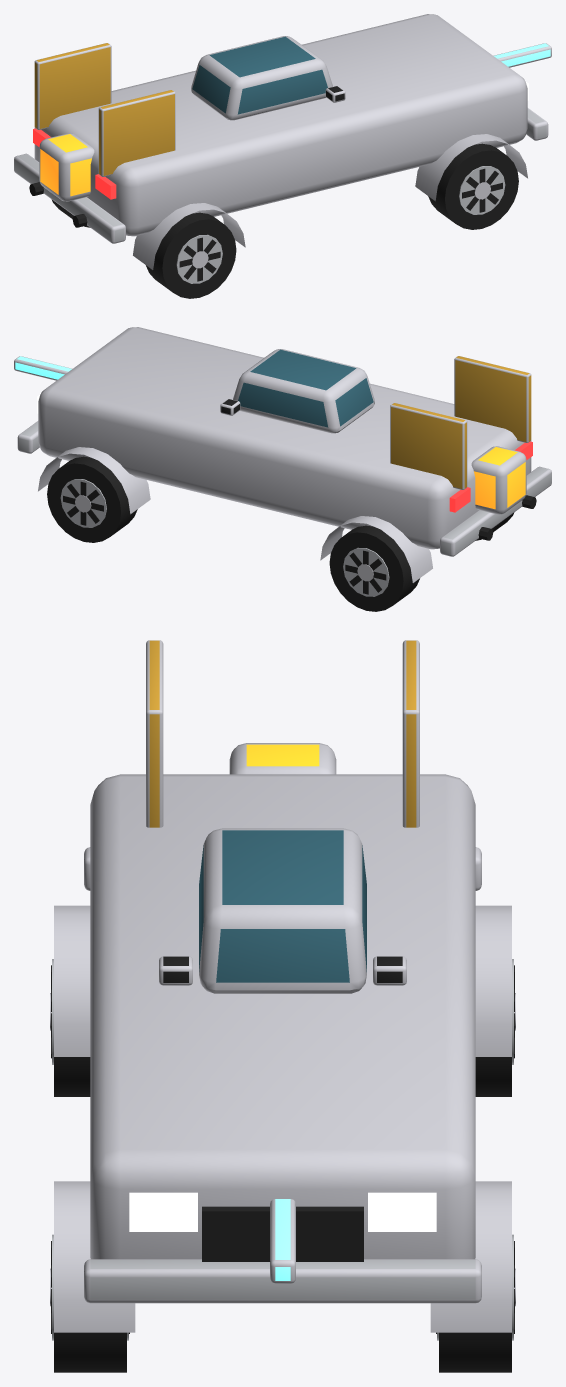
File: solar-flare.glb
3 renders of one model, top to bottom at view 1: azimuth 30°, elevation 25°; view 2: azimuth 150°, elevation 25°; view 3: azimuth 270°, elevation 25°, orthographic. The views are drawn at different scales.
Visible parts, largest first — view 1: body, wheel_RR, wheel_FR; view 2: body, wheel_RL, wheel_FL; view 3: body, wheel_FL, wheel_FR, wheel_RL, wheel_RR.
Boxes of the visible parts, bbox=[...] form: body: bbox=[14, 14, 551, 269]; wheel_RR: bbox=[146, 212, 236, 298]; wheel_FR: bbox=[428, 143, 518, 229]; body: bbox=[14, 327, 551, 582]; wheel_RL: bbox=[329, 525, 419, 611]; wheel_FL: bbox=[47, 456, 137, 542]; body: bbox=[54, 640, 511, 1332]; wheel_FL: bbox=[436, 1234, 515, 1372]; wheel_FR: bbox=[50, 1234, 129, 1372]; wheel_RL: bbox=[475, 959, 515, 1096]; wheel_RR: bbox=[50, 959, 90, 1096].
Bounding box in the file's own units: 5.4 × 1.95 × 2.18.
